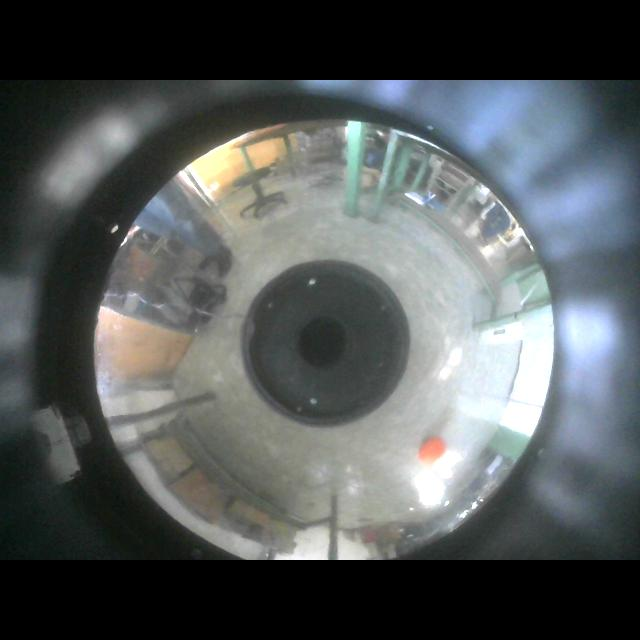bola: (418, 436, 445, 461)
